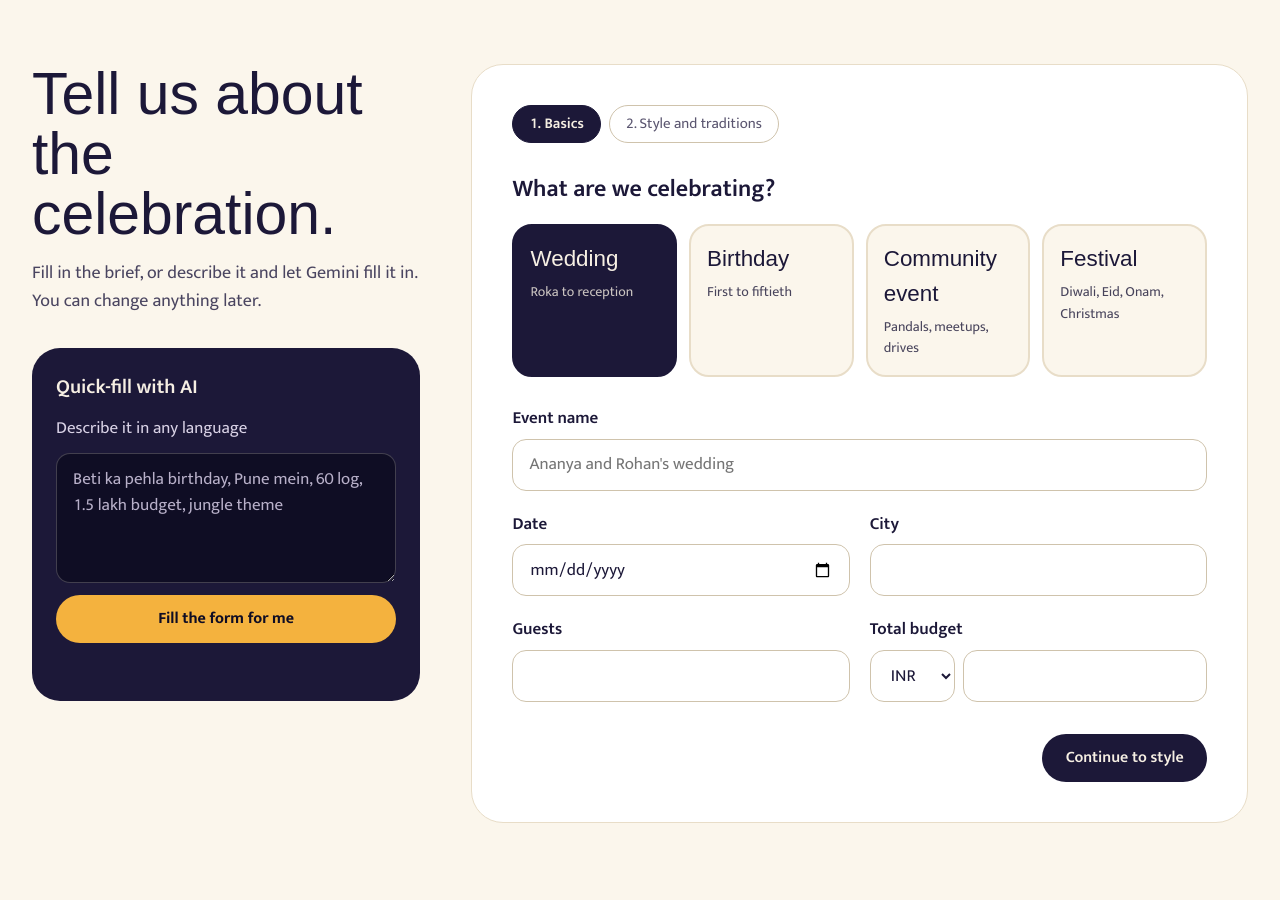
Test case: BriefWizard › explains every missing field and focuses the first one
This screenshot has width=1280, height=900.
Click the button "Continue to style" at [1125, 758], box [1042,734,1207,782]
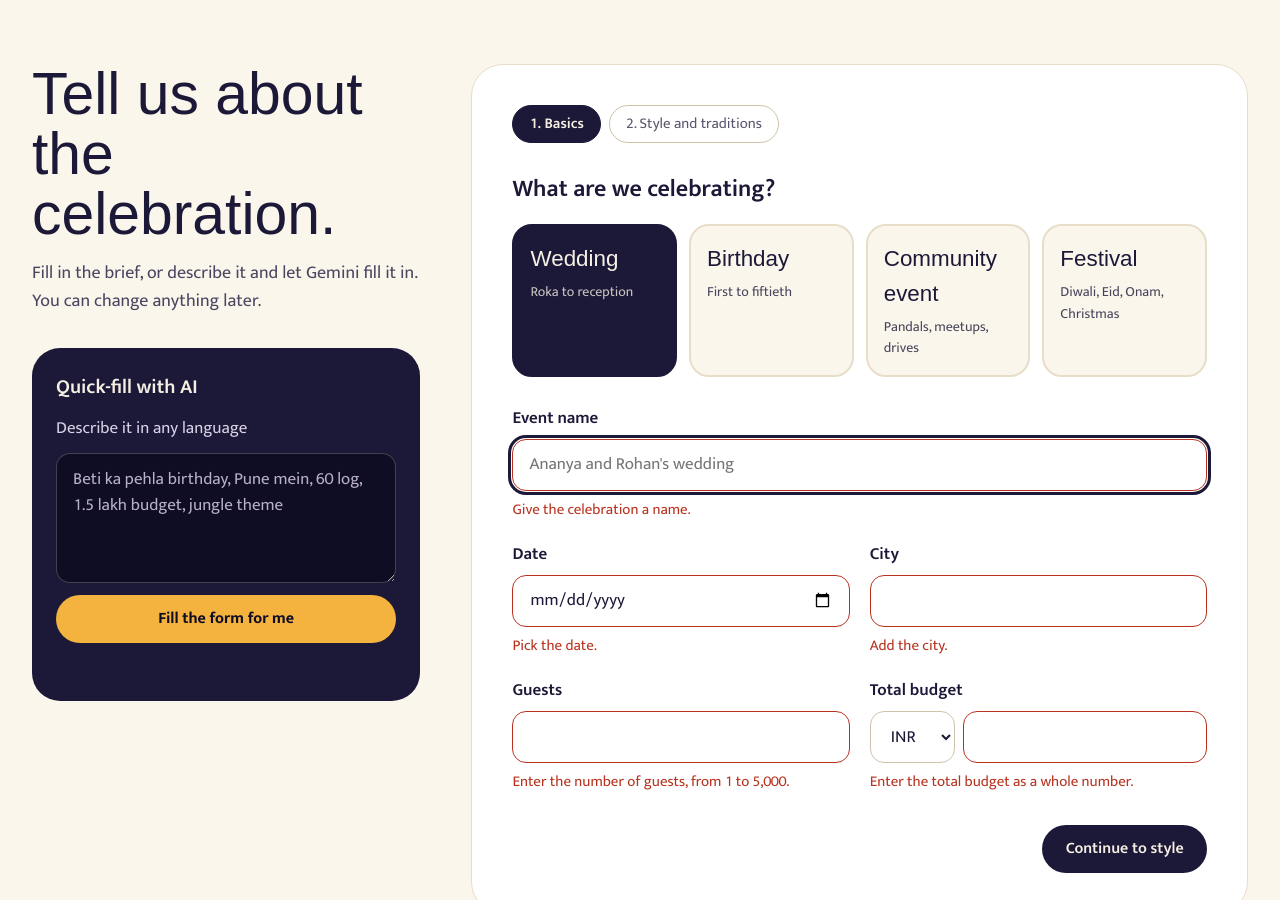
expect the text "Give the celebration a name." is shown: met, box [512,497,691,522]
expect the text "Add the city." is shown: met, box [870,633,947,658]
expect the text "Enter the number of guests, from 1 to 5,000." is shown: met, box [512,769,790,794]
